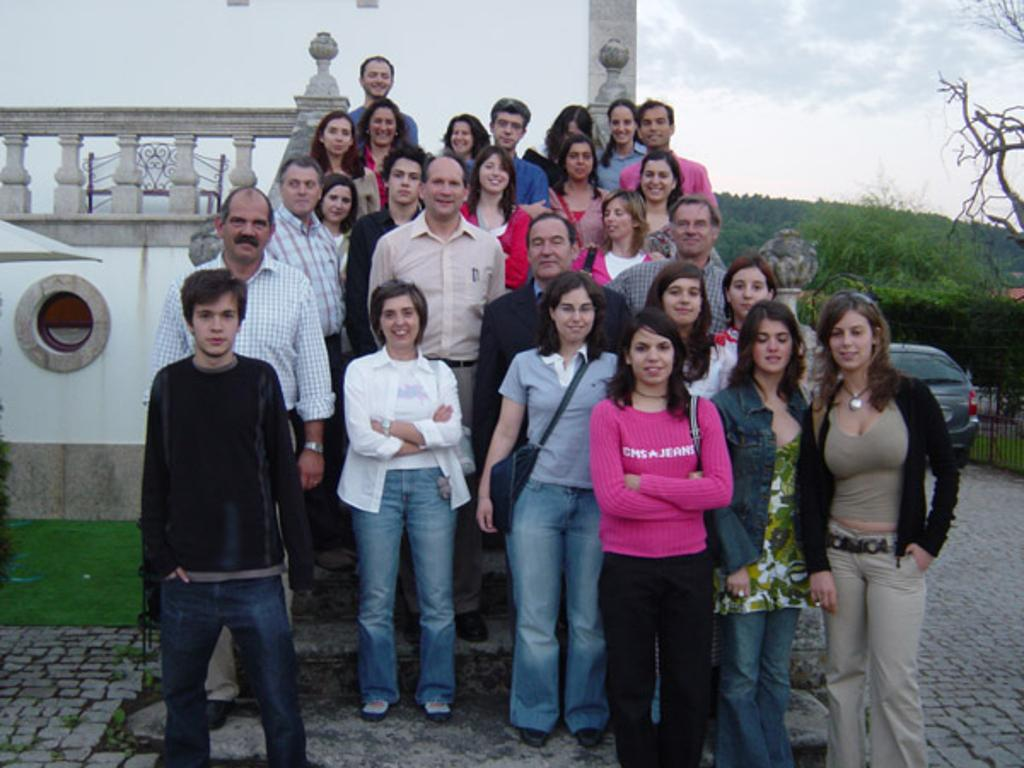face: (193, 292, 238, 355), (225, 193, 268, 256), (829, 312, 872, 369), (630, 329, 673, 383), (752, 318, 792, 372), (554, 288, 594, 341), (529, 225, 569, 277), (424, 164, 464, 214), (730, 268, 767, 318), (281, 165, 318, 214), (663, 277, 701, 324), (380, 298, 417, 346), (674, 206, 709, 254), (389, 159, 421, 202), (641, 161, 671, 200), (479, 154, 509, 192), (641, 107, 668, 146), (322, 186, 351, 221), (323, 119, 351, 155), (494, 112, 522, 148), (370, 107, 396, 145), (603, 201, 629, 239), (364, 62, 391, 96), (566, 145, 593, 179), (609, 107, 633, 143), (563, 124, 586, 154), (451, 122, 473, 153)
